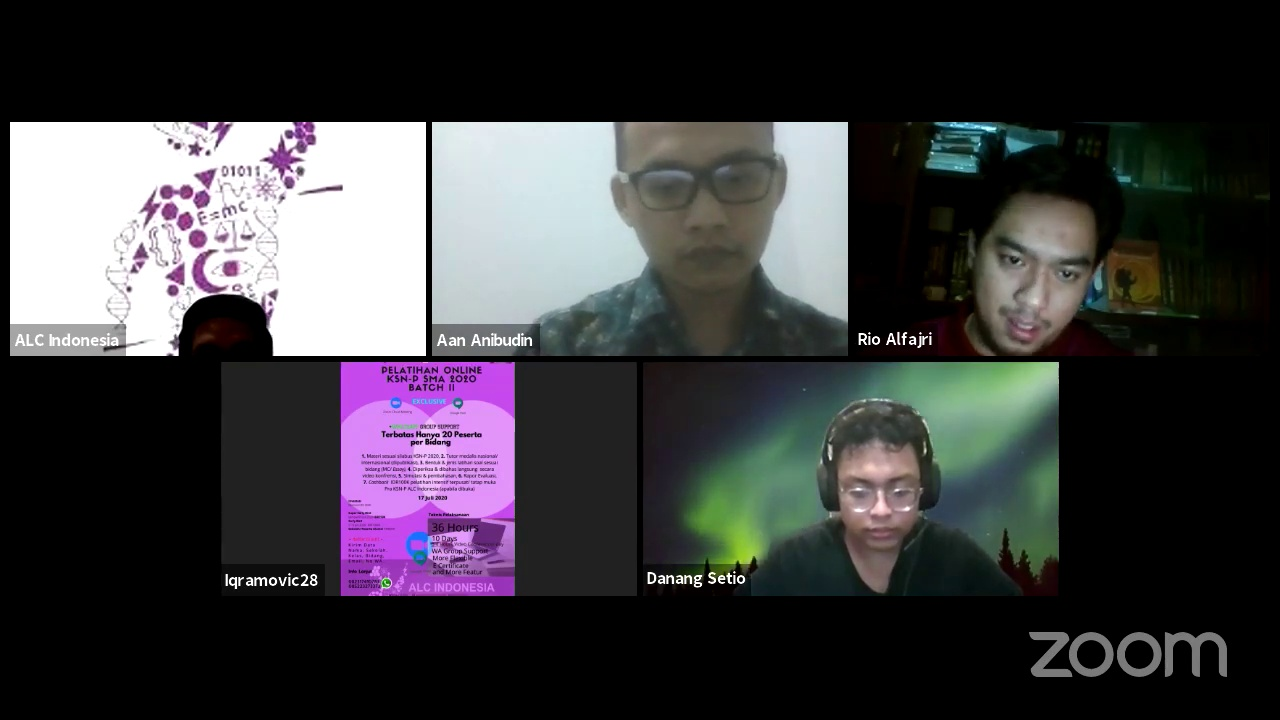Distracted: (812, 421, 953, 556)
Not Distracted: (597, 124, 798, 288), (952, 167, 1106, 361)
